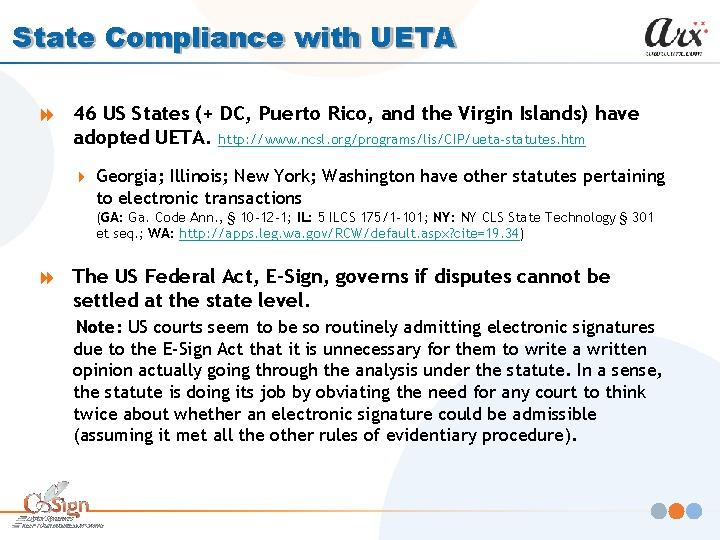paragraph: (31, 91, 699, 463)
title: (5, 19, 465, 61)
